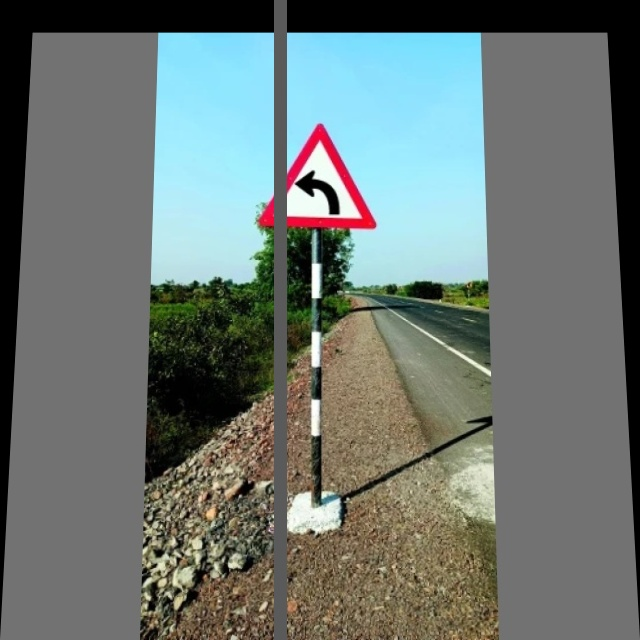Left_Hand_Curve: (264, 120, 373, 235)
